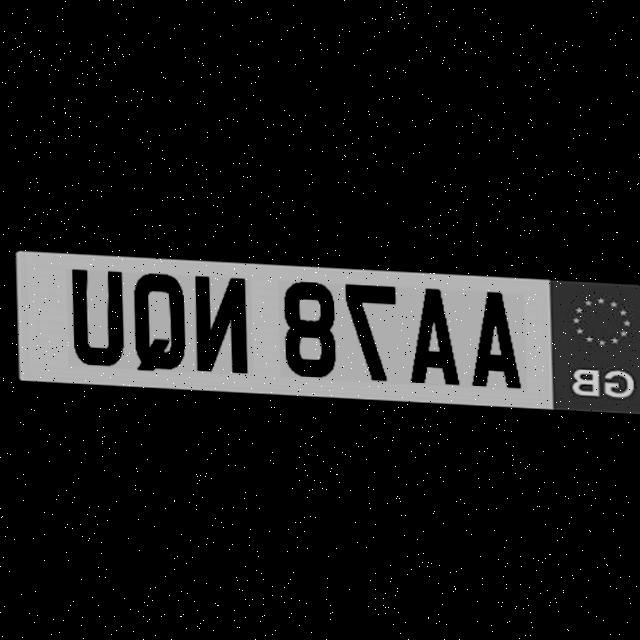license-plates: (12, 248, 640, 413)
